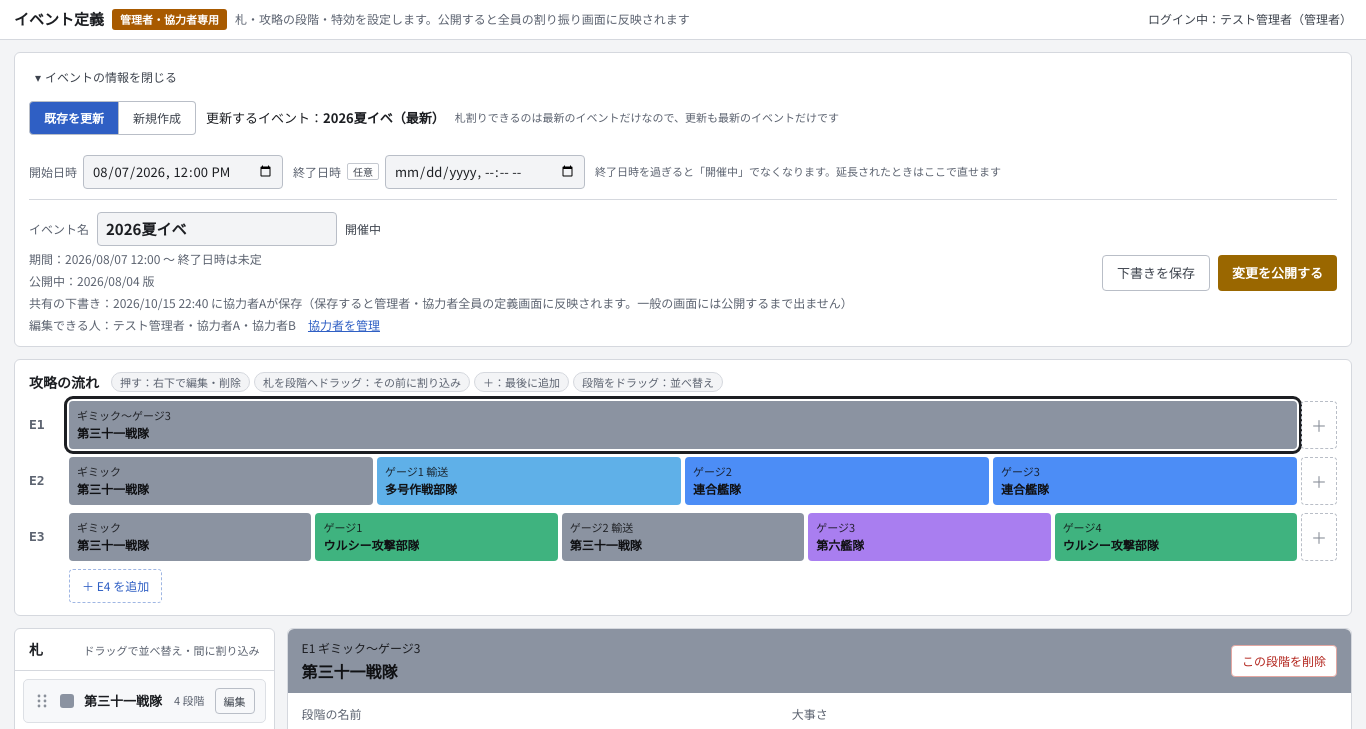
it: イベント定義の画面（PlanEditor）：段階の詳細 › 段階の削除 › 削除の確認で「やめる」を押すと、段階を消さずに確認を閉じる
The image size is (1366, 729).
Check: the element "攻略の流れ" is shown, box [14,358,1352,616]
Click the button "ゲージ3 連合艦隊": (1020, 470) [993,456,1297,504]
(page scrolled)
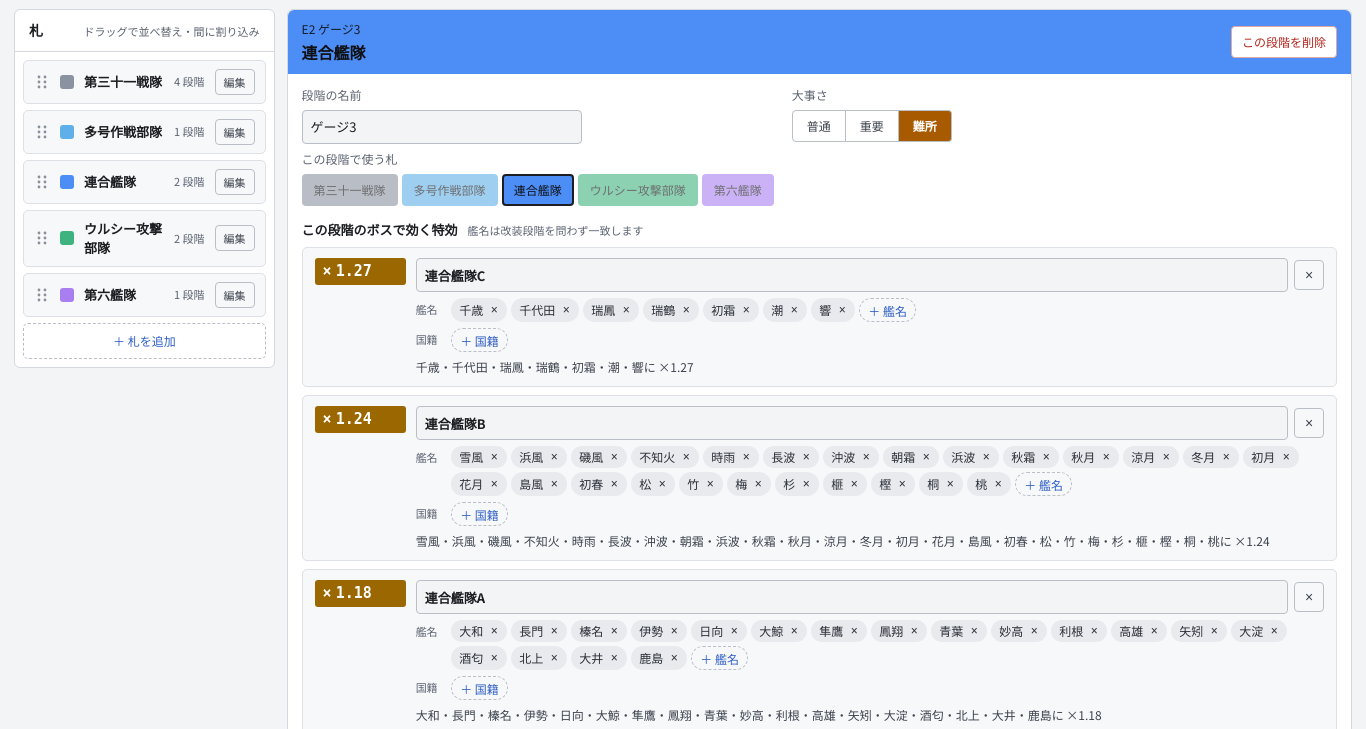
Click the button "この段階を削除": (1284, 42) [1231,26,1337,58]
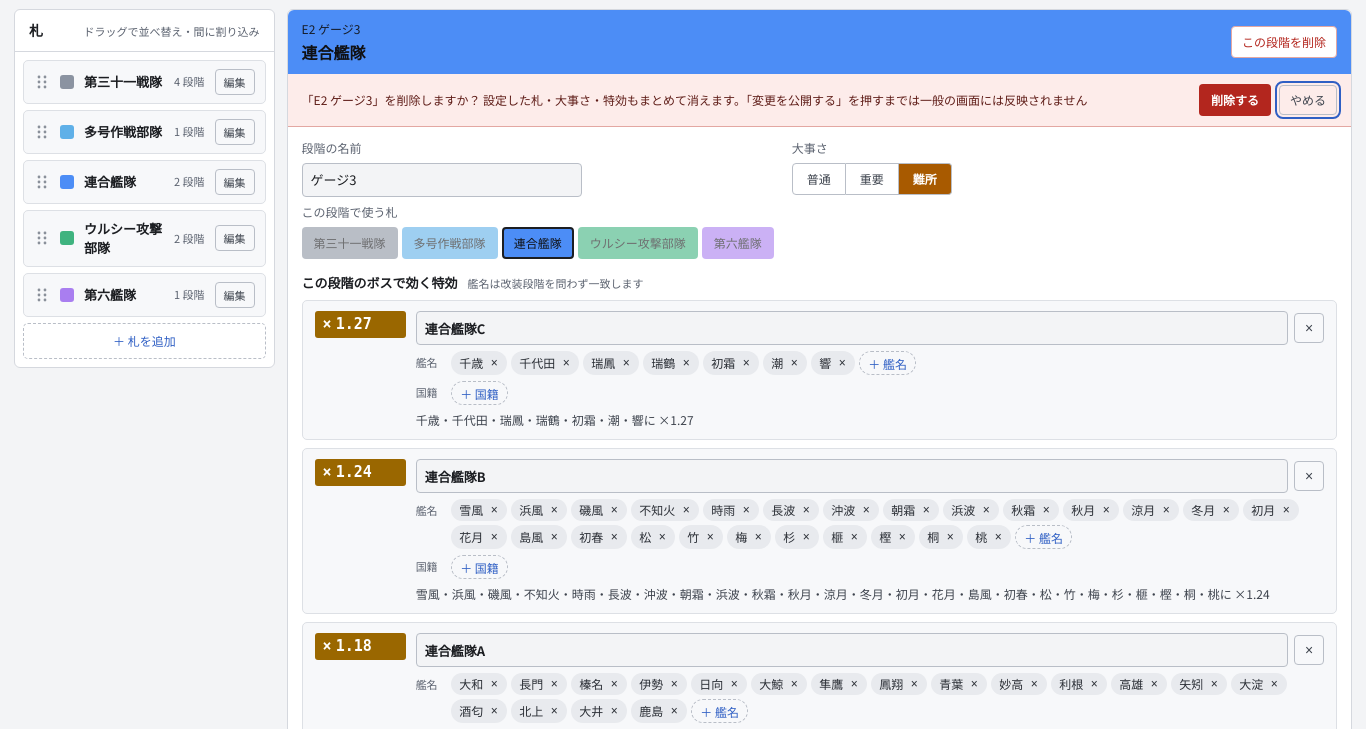
Click the button "やめる": (1308, 100) [1279,84,1337,114]
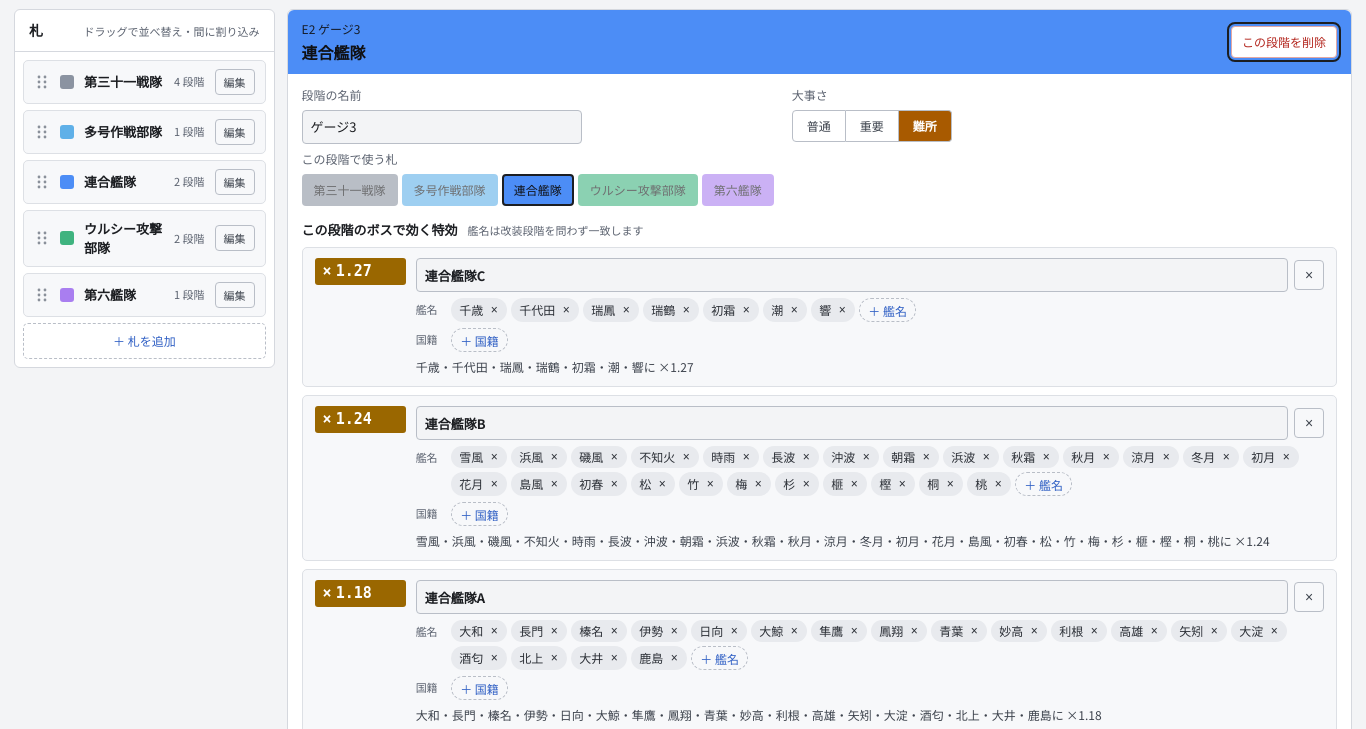
Check: the dialog "段階の削除の確認" is gone
